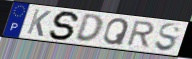D: (73, 14, 104, 44)
K: (25, 8, 53, 38)
Q: (102, 17, 131, 47)
R: (124, 20, 157, 49)
S: (48, 10, 82, 42), (154, 23, 183, 54)
